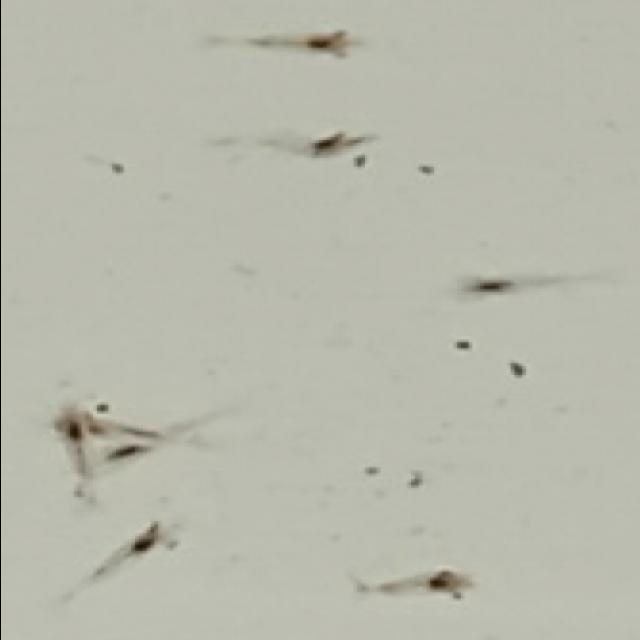shrimp-seed: (125, 514, 185, 556), (310, 125, 370, 162), (304, 26, 352, 60), (426, 569, 474, 602), (51, 408, 113, 433), (464, 274, 512, 302), (54, 412, 90, 447), (101, 444, 150, 469)
